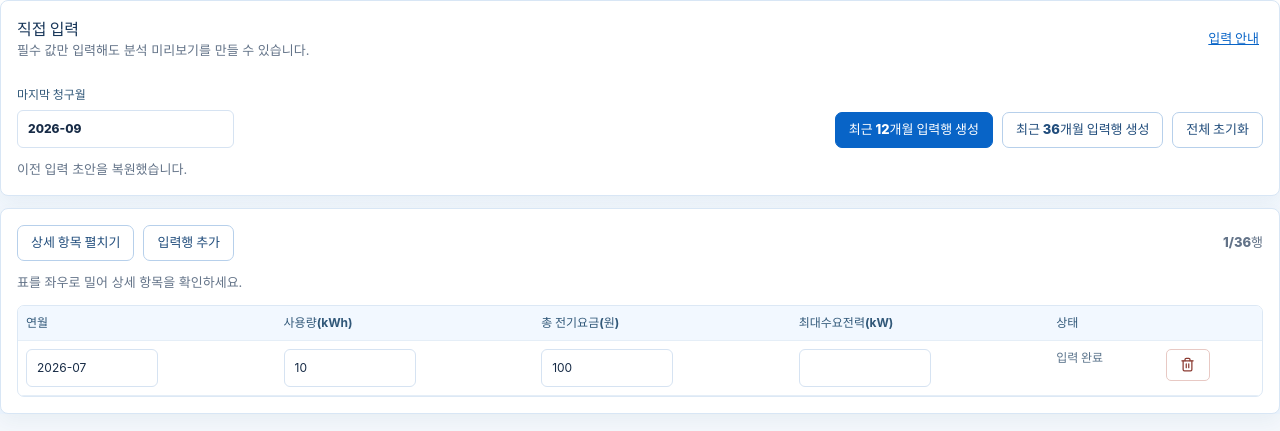
ManualBillInput › retains rows and reports a failed debounced save
The width and height of the screenshot is (1280, 431).
Replace the text in the field named "2026-07 사용량(kWh)" with "20". click: (350, 368)
box: [284, 348, 416, 386]
Wait 300 ms
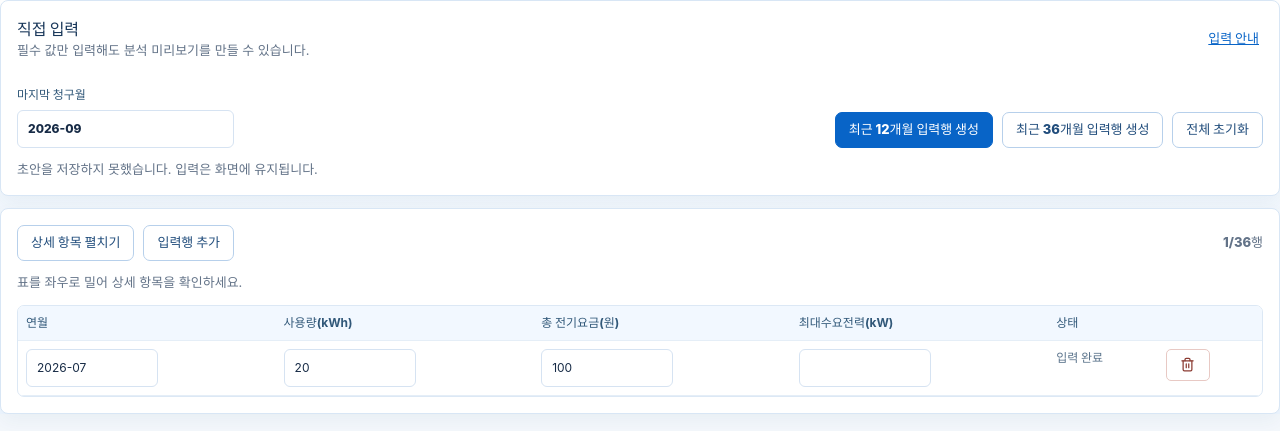
Now the text "초안을 저장하지 못했습니다. 입력은 화면에 유지됩니다." is shown, box [17, 160, 318, 176]
